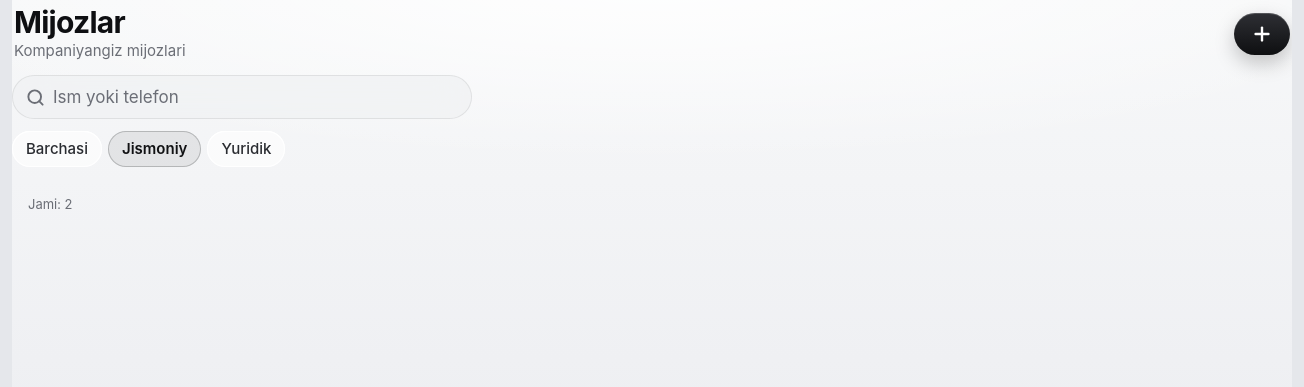
Test: a search narrows the list, starts from the first page and stays in the address
Type " malika " into the search field named "Qidirish" at coordinates (256, 97), box [53,75,458,119]
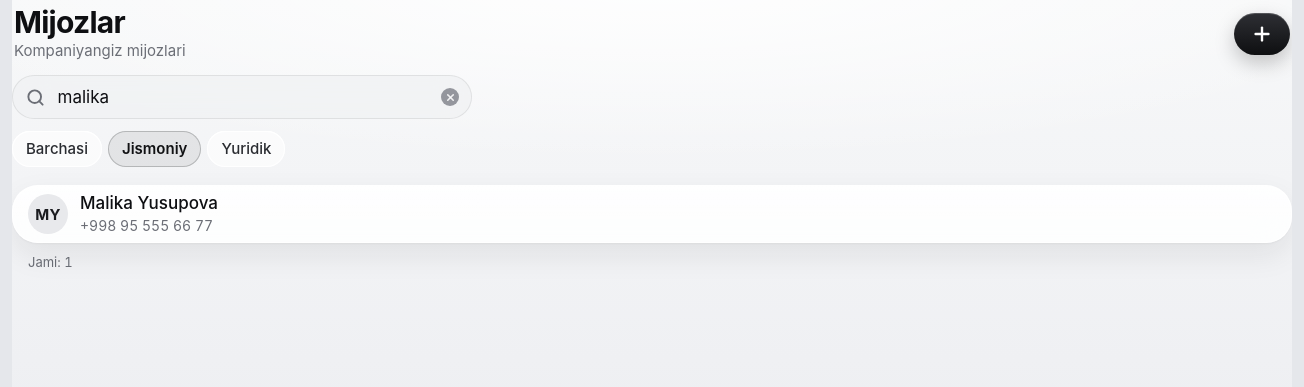
// A phone as people write it.
Clear the search field named "Qidirish" at coordinates (240, 97), box [53,75,426,119]
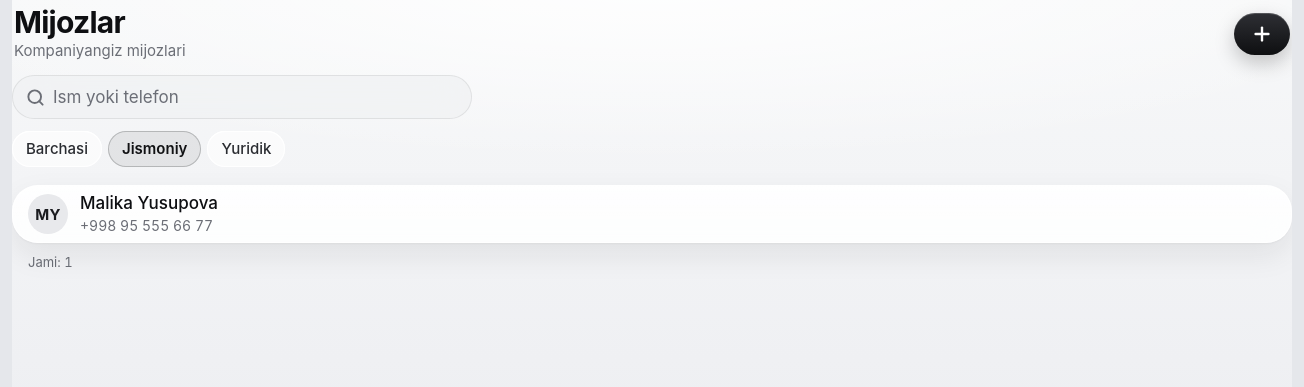
Type "+998 91 111" into the search field named "Qidirish" at coordinates (256, 97), box [53,75,458,119]
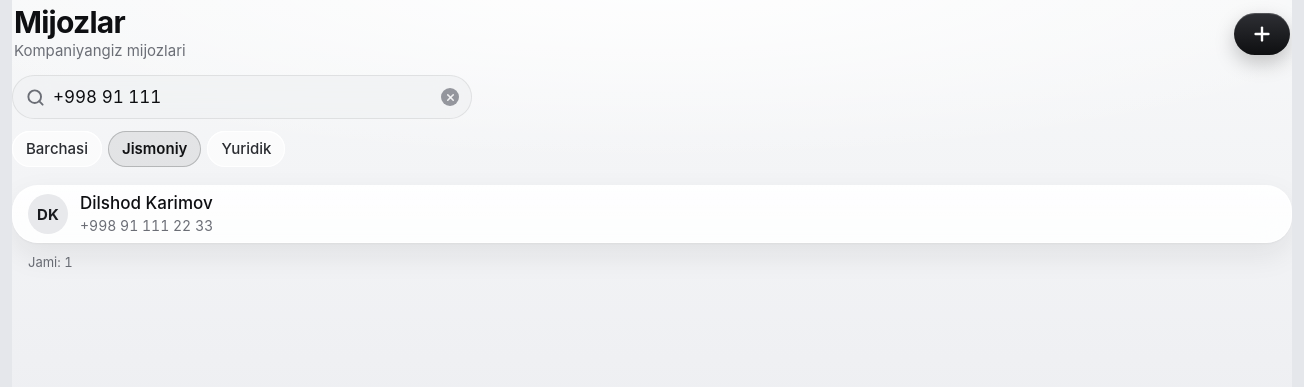
Clear the search field named "Qidirish" at coordinates (240, 97), box [53,75,426,119]
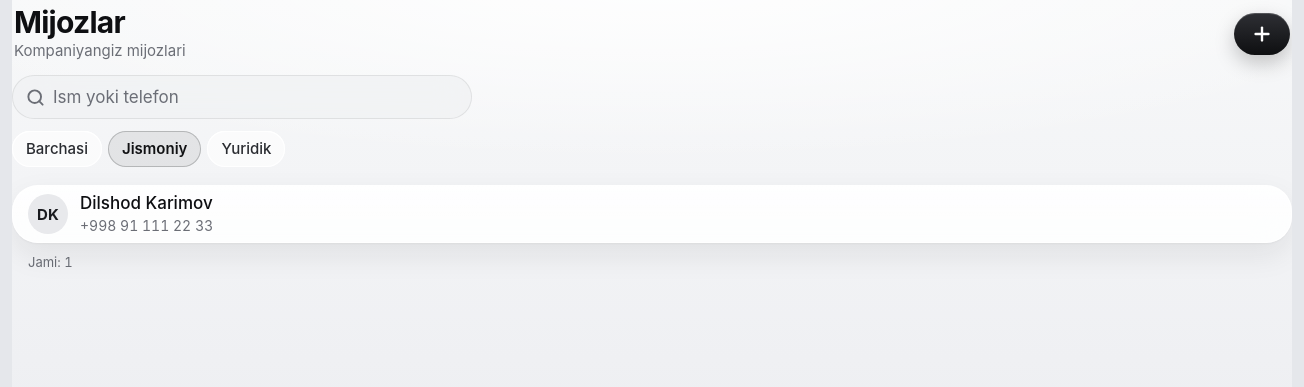
Type "zzz" into the search field named "Qidirish" at coordinates (256, 97), box [53,75,458,119]
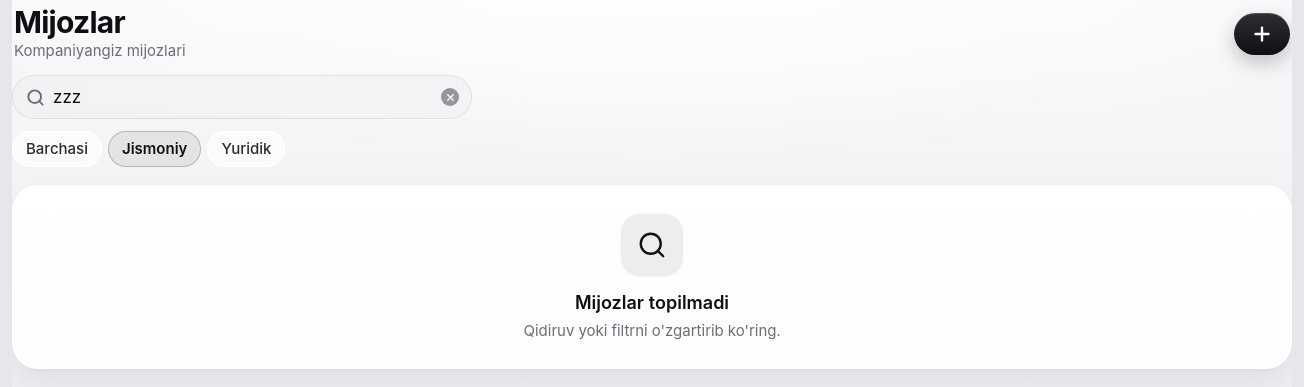
Expected: the text "Mijozlar topilmadi" is shown, [575,292,729,313]
Expected: the text "Qidiruv yoki filtrni o'zgartirib ko'ring." is shown, [524,321,780,340]
